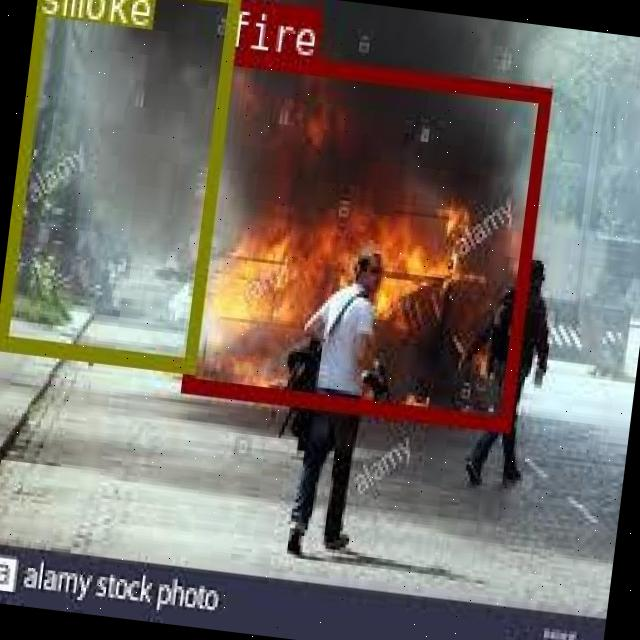fire: (181, 48, 548, 428)
smoke: (0, 0, 240, 368)
